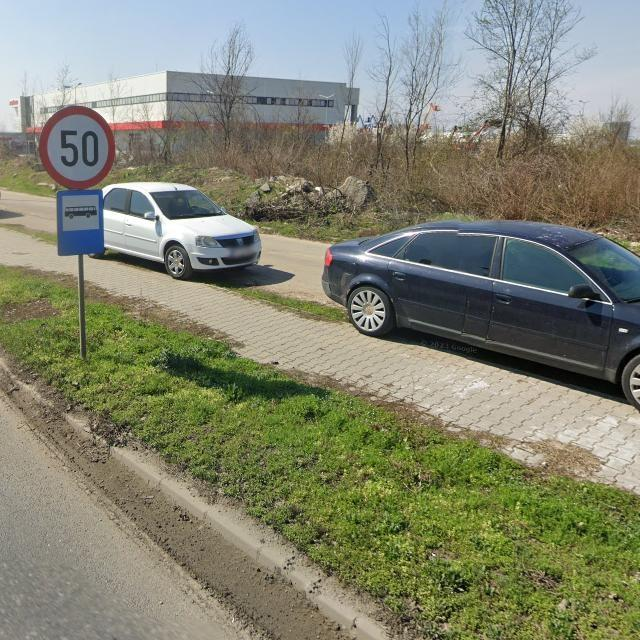forb_speed_over_50: (40, 105, 117, 189)
